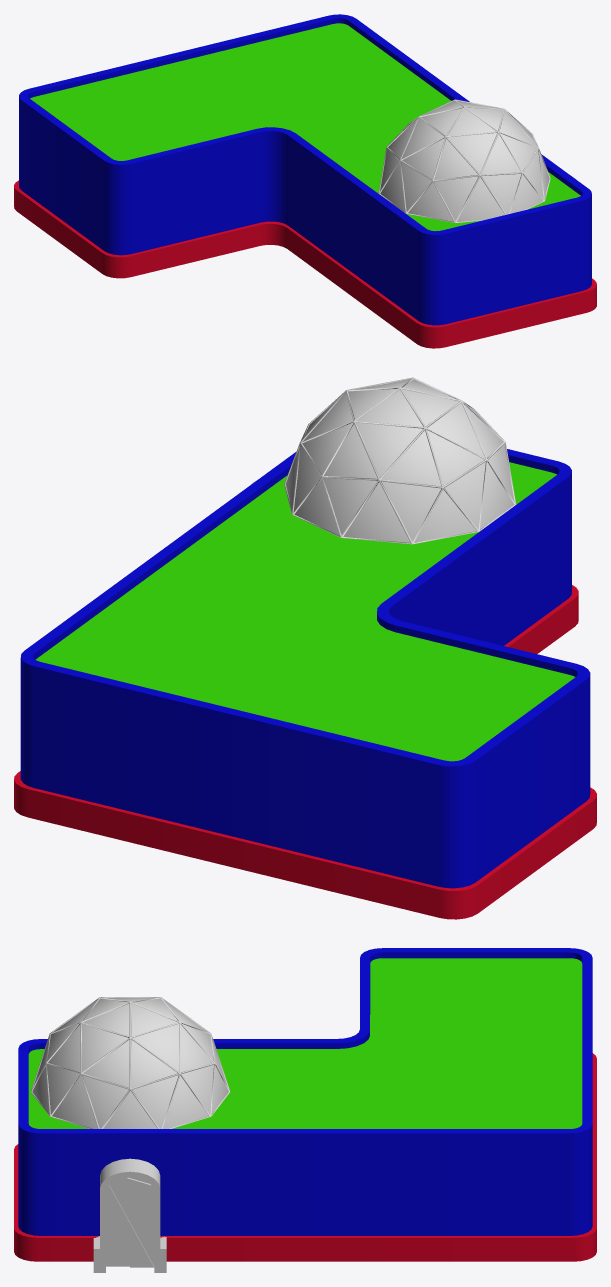
The model's file is maison_L.fbx.
3 renders of one model, top to bottom at view 1: azimuth 30°, elevation 25°; view 2: azimuth 150°, elevation 25°; view 3: azimuth 270°, elevation 25°, orthographic. The views are drawn at different scales.
Visible parts, largest first — view 1: Maison_L, Maison_L_Dome, Maison_L_Dome_Structure; view 2: Maison_L, Maison_L_Dome, Maison_L_Dome_Structure; view 3: Maison_L, Maison_L_Dome, Maison_L_Porte, Maison_L_Dome_Structure, Maison_L_Cadre_Porte.
Part boxes in pixels (<box>): Maison_L: <box>14,14,596,348</box>; Maison_L_Dome: <box>380,100,549,221</box>; Maison_L_Dome_Structure: <box>378,99,550,222</box>; Maison_L: <box>14,449,596,919</box>; Maison_L_Dome: <box>285,379,514,542</box>; Maison_L_Dome_Structure: <box>284,377,516,544</box>; Maison_L: <box>14,948,596,1261</box>; Maison_L_Dome: <box>32,998,228,1128</box>; Maison_L_Porte: <box>106,1177,154,1267</box>; Maison_L_Dome_Structure: <box>30,997,230,1128</box>; Maison_L_Cadre_Porte: <box>93,1158,166,1272</box>.
Bounding box in the file's own units: 849 × 417 × 1045.
